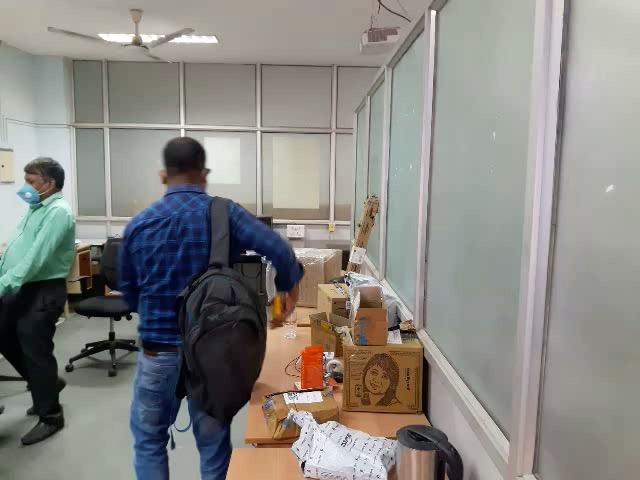shoplifting: (123, 199, 350, 474)
